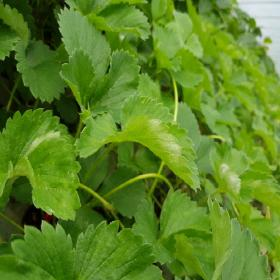Powdery Mildew Leaf: (73, 92, 203, 194), (0, 108, 81, 222), (209, 145, 254, 203)
